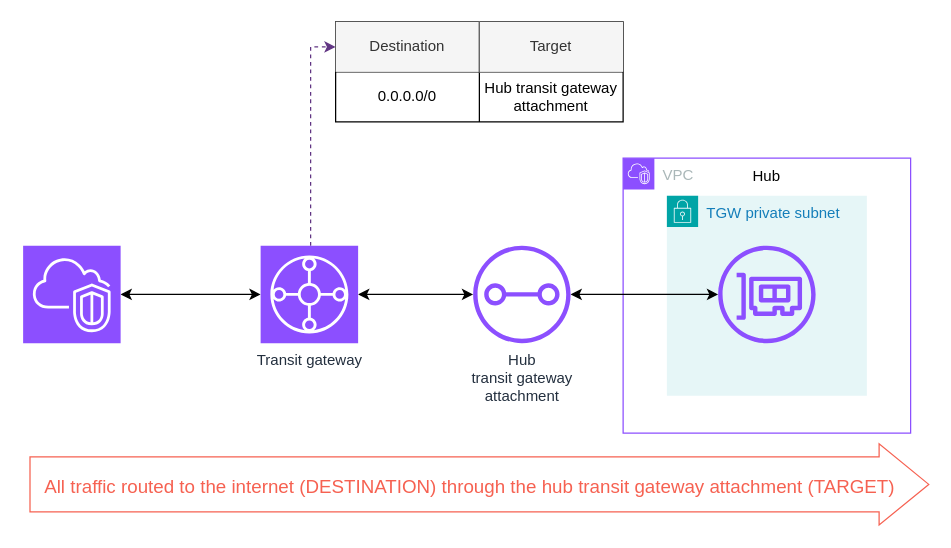
This 951x548 diagram has some shape labels left out. Each missing label, with the centre of its shape:
"Spoke VPC (172.16.0.0/12)" belongs at [71,293].
"Transit gateway network interface" belongs at [766,293].
